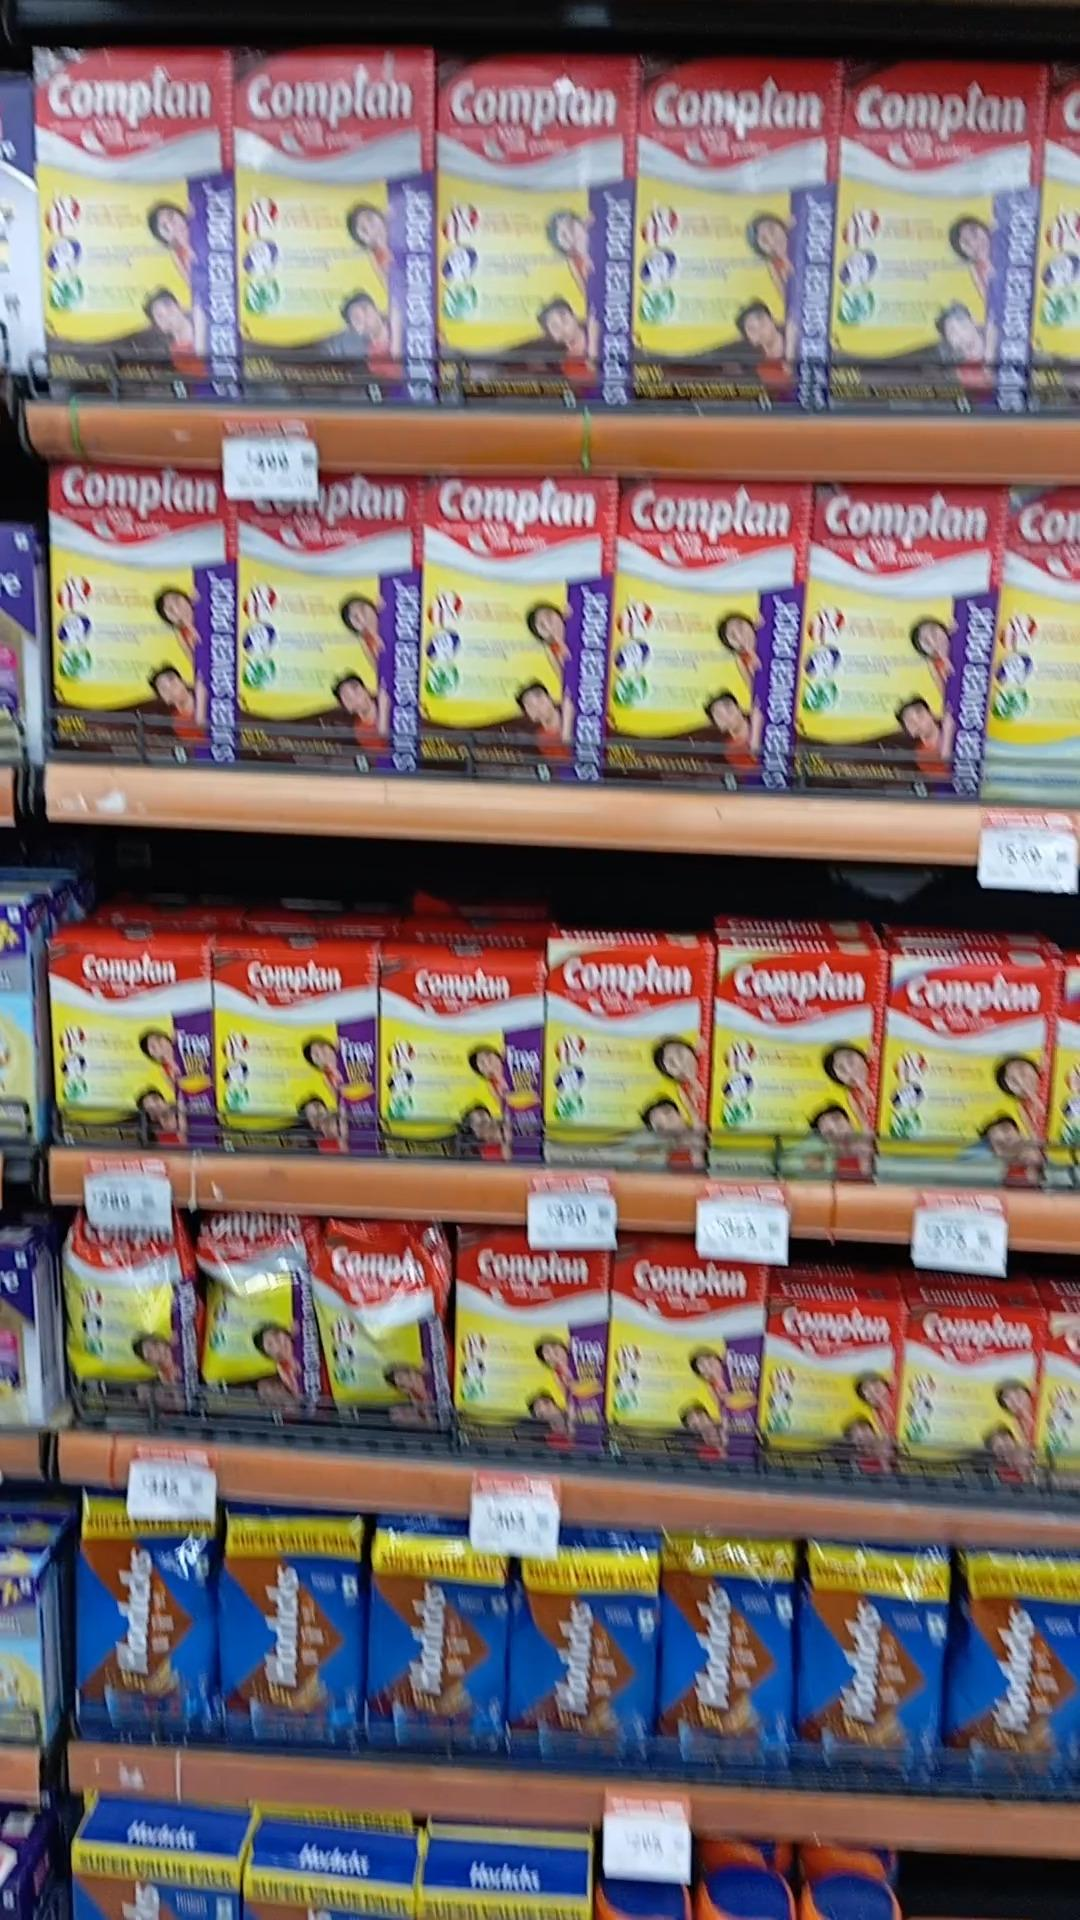COMPLAN_CHOCOLATE_1_KG_PACK: (836, 61, 1038, 409), (40, 44, 229, 400), (239, 53, 431, 397), (436, 57, 628, 398), (640, 62, 827, 406), (616, 477, 795, 791), (49, 460, 228, 767), (426, 476, 604, 785), (810, 483, 977, 803), (231, 475, 409, 774), (611, 1245, 757, 1478), (455, 1232, 605, 1453)
COMPLAN_CHOCOLATE_500_GMS_PACK: (384, 961, 539, 1168), (51, 944, 210, 1147), (219, 953, 372, 1153), (767, 1302, 899, 1485), (903, 1309, 1030, 1493)
COMPLAN_CREAMY_CLASSIC_500_G_PACK: (887, 955, 1044, 1185)
COMPLAN_KESAR_BADAM_500_GMS_PACK: (547, 944, 705, 1174)
COMPLAN_PISTA_BADAM_500_GMS_PACK: (713, 948, 873, 1184)
COMPLAN_RC_POUCH_700_GMS_12: (320, 1224, 439, 1439), (202, 1208, 313, 1416), (65, 1229, 179, 1411)
HORLICK_CHOCOLATE_750_G_POUCH: (806, 1540, 943, 1787), (224, 1509, 359, 1758), (516, 1524, 647, 1776), (84, 1493, 212, 1751), (373, 1513, 504, 1766), (663, 1535, 794, 1785), (957, 1552, 1080, 1791)
